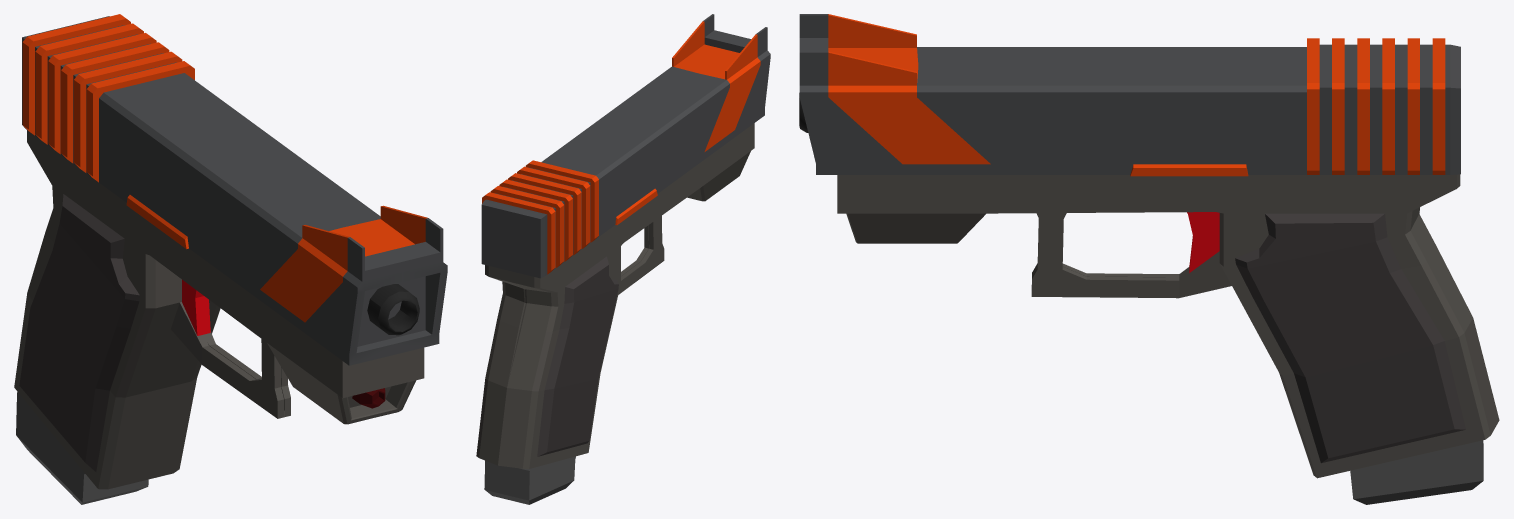
The model's file is gun.glb.
3 views of the same model, side by side, from view 1: azimuth 30°, elevation 25°; view 2: azimuth 150°, elevation 25°; view 3: azimuth 270°, elevation 25° (orthographic). The views are drawn at different scales.
Parts seen in each view (by area): view 1: slide_3, Bodt_2, Mag_5, Barrel_6, trigger_4; view 2: slide_3, Bodt_2, Mag_5; view 3: slide_3, Bodt_2, Mag_5, trigger_4.
Part boxes in pixels (x1,y1,x2,y2): slide_3: [22, 14, 447, 365]; Bodt_2: [14, 130, 424, 489]; Mag_5: [16, 392, 148, 504]; Barrel_6: [367, 284, 419, 335]; trigger_4: [182, 279, 210, 335]; slide_3: [481, 14, 770, 278]; Bodt_2: [476, 123, 754, 468]; Mag_5: [484, 456, 575, 504]; slide_3: [799, 14, 1460, 176]; Bodt_2: [837, 174, 1499, 478]; Mag_5: [1350, 440, 1483, 504]; trigger_4: [1187, 212, 1219, 272].
Size of the model in its own units: 0.0885 by 0.3895 by 0.5361.
